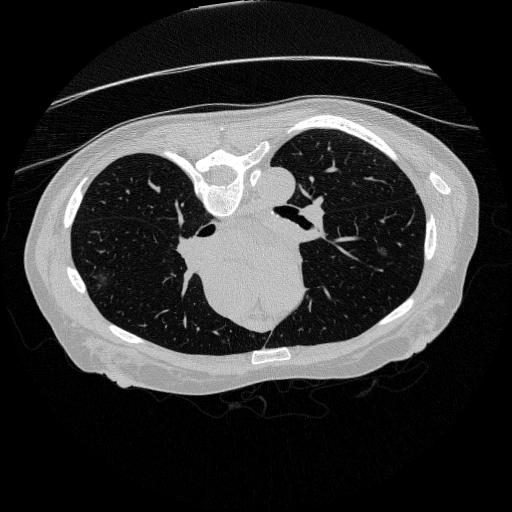nodule: (375, 246, 390, 261)
